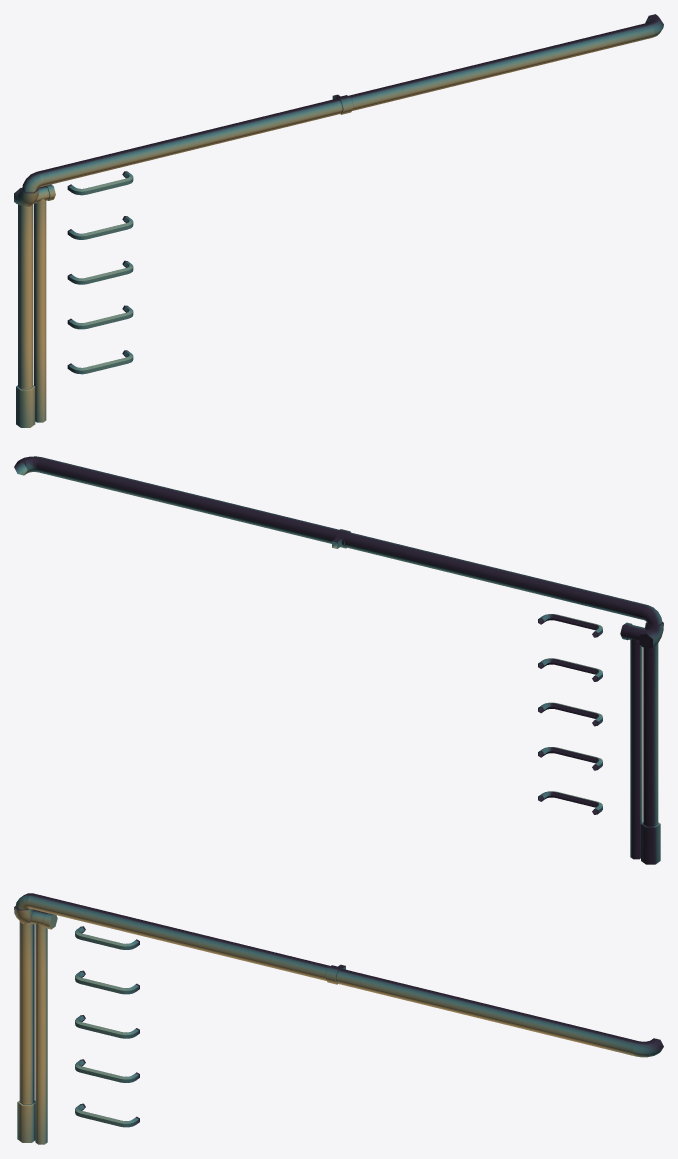
File: corridor_pipes.glb
3 renders of one model, top to bottom at view 1: azimuth 30°, elevation 25°; view 2: azimuth 150°, elevation 25°; view 3: azimuth 330°, elevation 25°, orthographic.
Visible parts, largest first — view 1: Pipes_Corridor, Pipe_Ladder; view 2: Pipes_Corridor, Pipe_Ladder; view 3: Pipes_Corridor, Pipe_Ladder.
Part boxes in pixels (bbox=[...]): Pipes_Corridor: bbox=[14, 14, 663, 427]; Pipe_Ladder: bbox=[67, 171, 133, 374]; Pipes_Corridor: bbox=[14, 456, 663, 864]; Pipe_Ladder: bbox=[538, 614, 602, 814]; Pipes_Corridor: bbox=[14, 893, 663, 1144]; Pipe_Ladder: bbox=[75, 926, 139, 1127].
Size of the model in its own units: 6.81 by 2.55 by 0.2679.
Materials: 2 (2 with a texture image).
